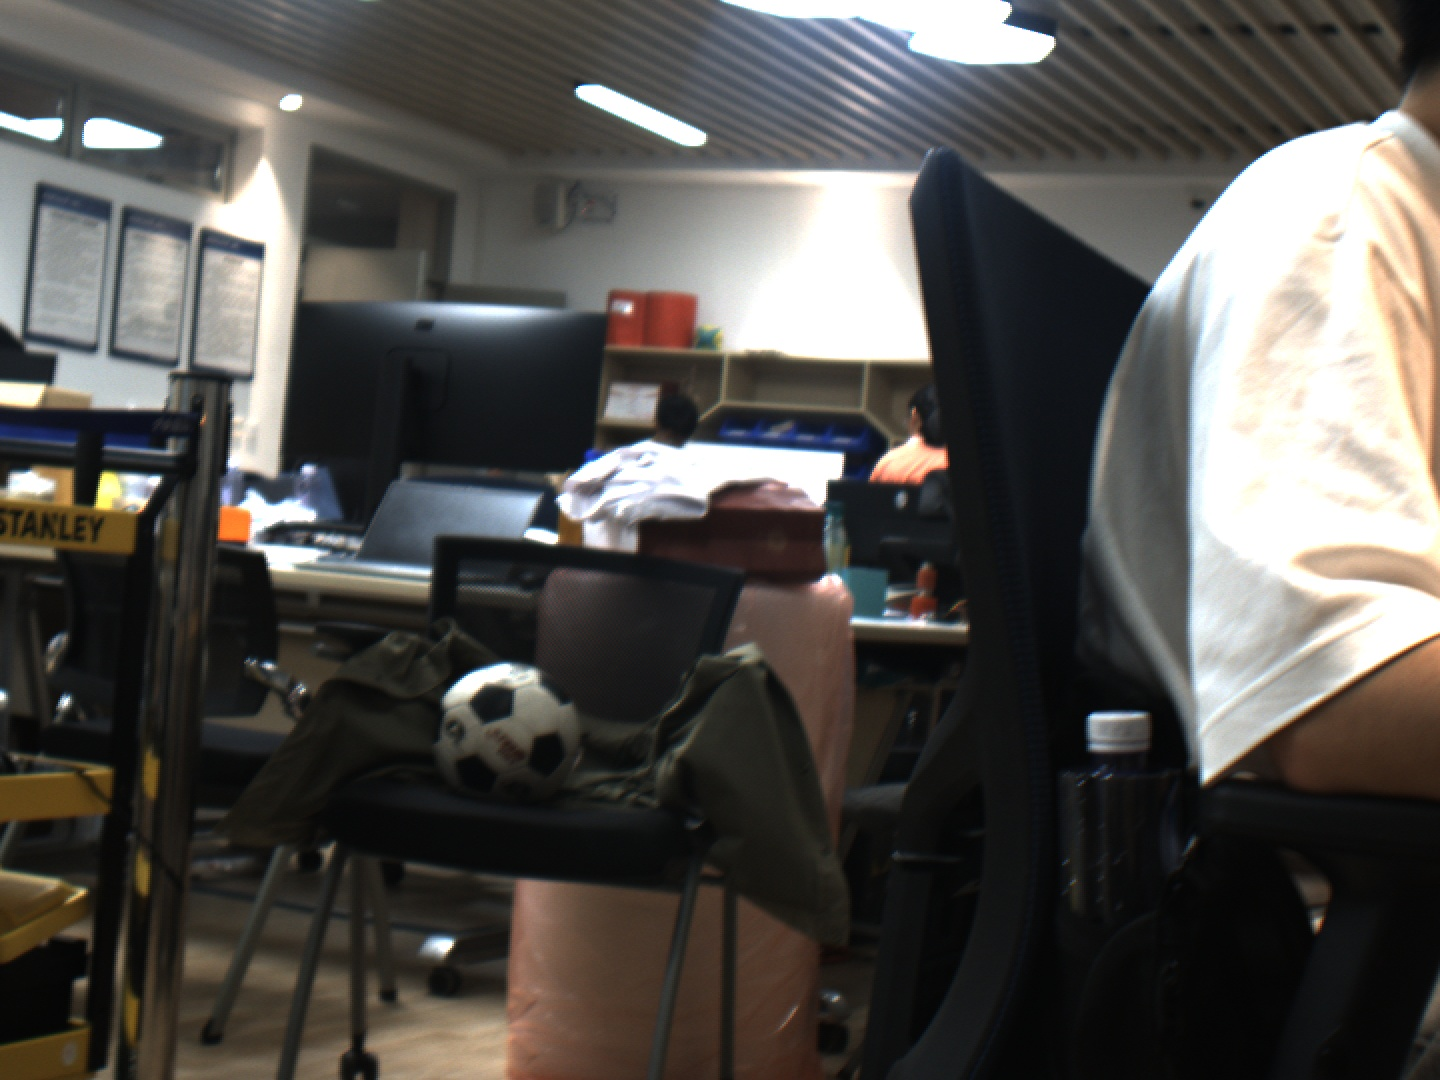ball: (431, 664, 576, 808)
